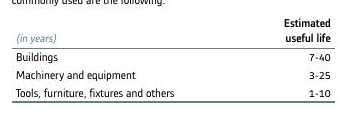table: (0, 0, 356, 119)
